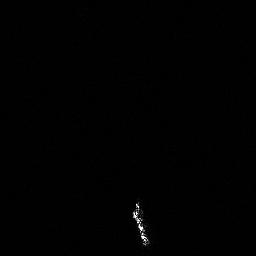ship: (129, 199, 153, 248)
